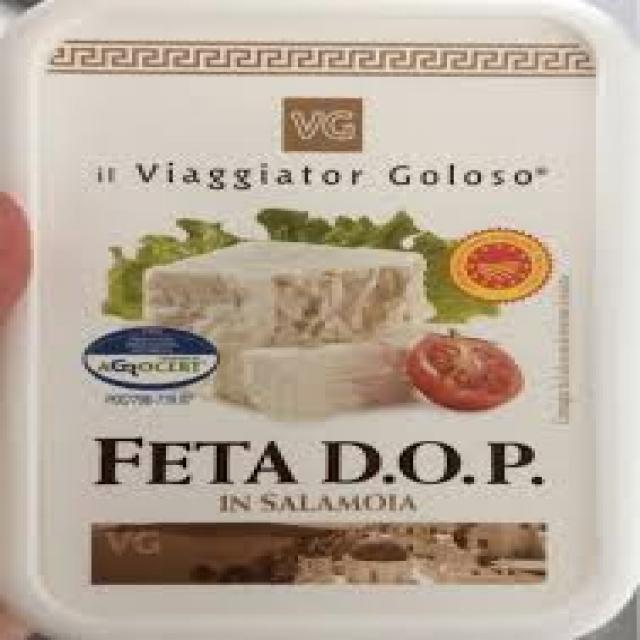Cheese: (30, 22, 599, 606)
